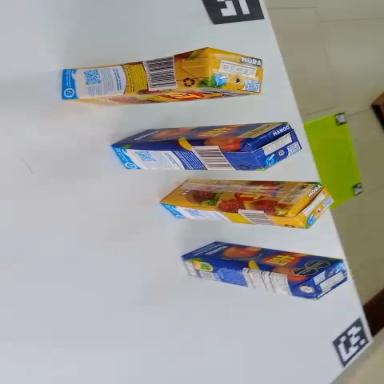HIT-MANGO: (179, 234, 349, 304), (111, 123, 301, 171)
HIT-MORA: (59, 42, 265, 113), (160, 178, 333, 229)
cara_F: (181, 236, 343, 283), (66, 82, 258, 111), (159, 178, 319, 212), (112, 122, 288, 146)
